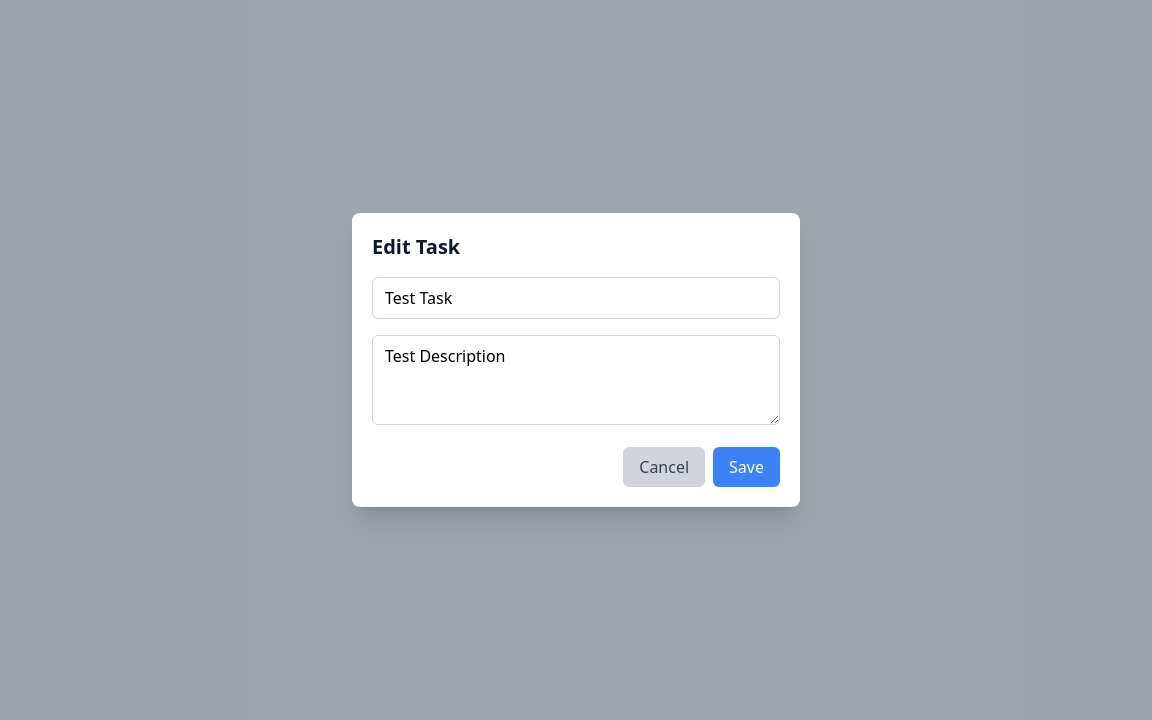
Test case: EditTaskPopup › clears error message when user starts typing after an error
Clear the field showing "Test Task": (576, 298) [372, 277, 780, 319]
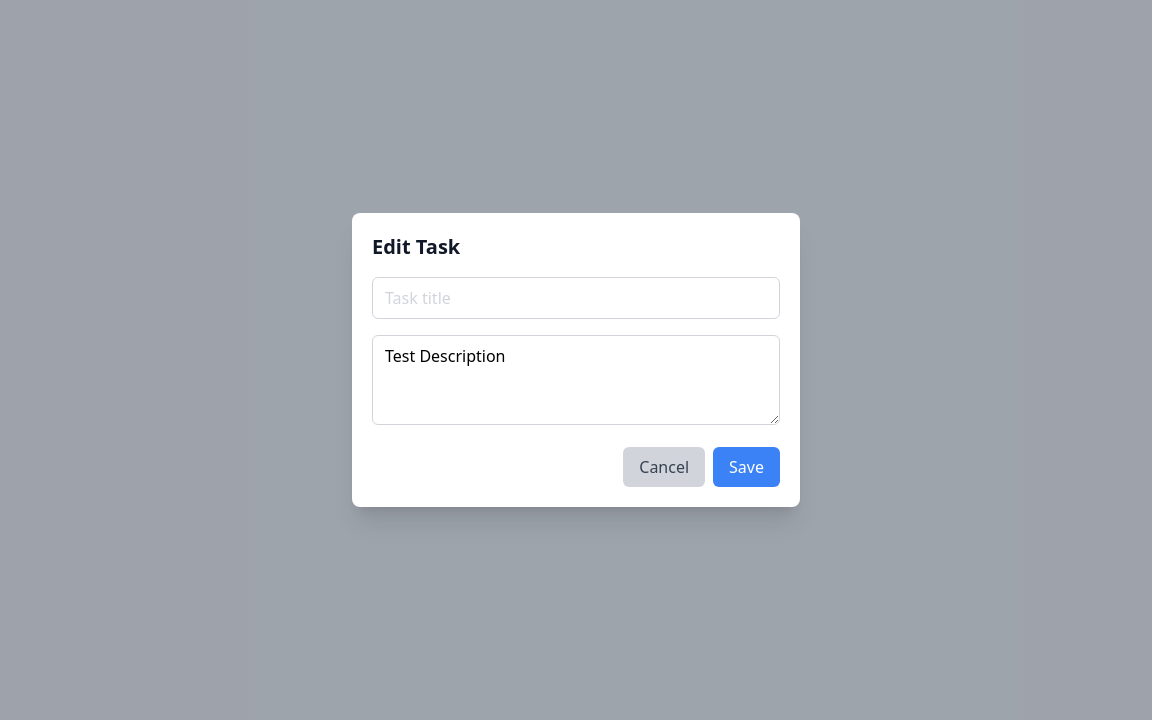
Click the button "Save": click(747, 467) [713, 447, 780, 487]
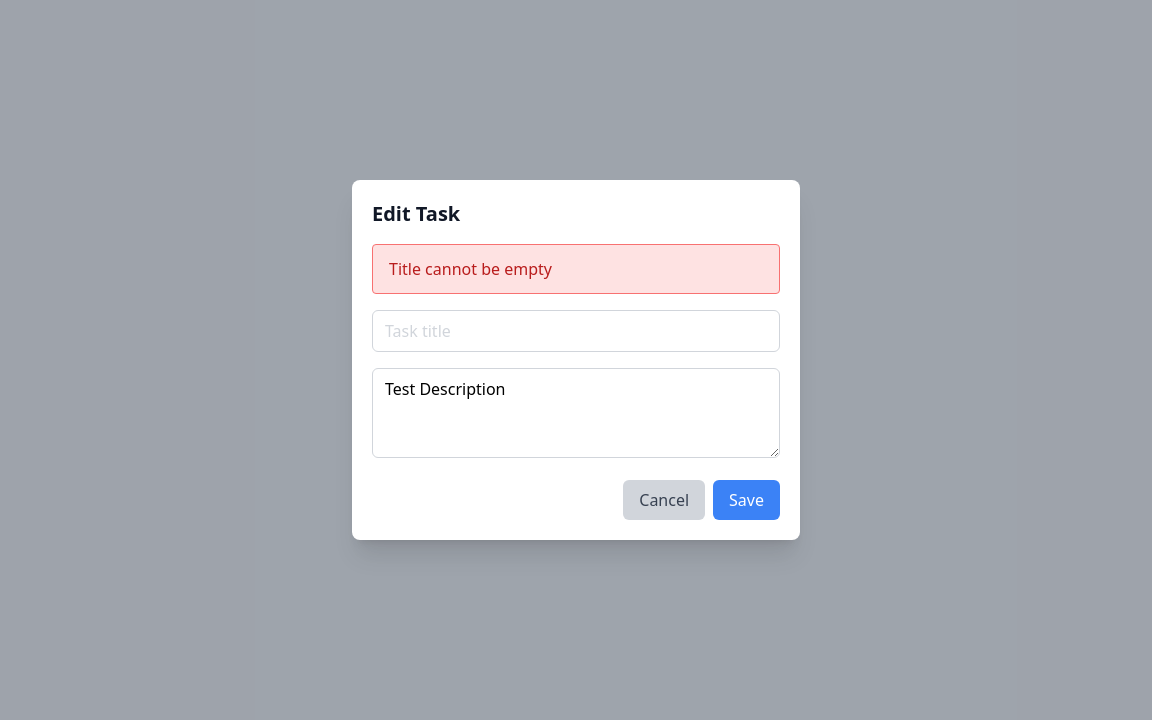
Check: the text "Title cannot be empty" is shown, box [389, 258, 552, 280]
In the field showing "Test Task": (576, 331) [372, 310, 780, 352], type "New Title"
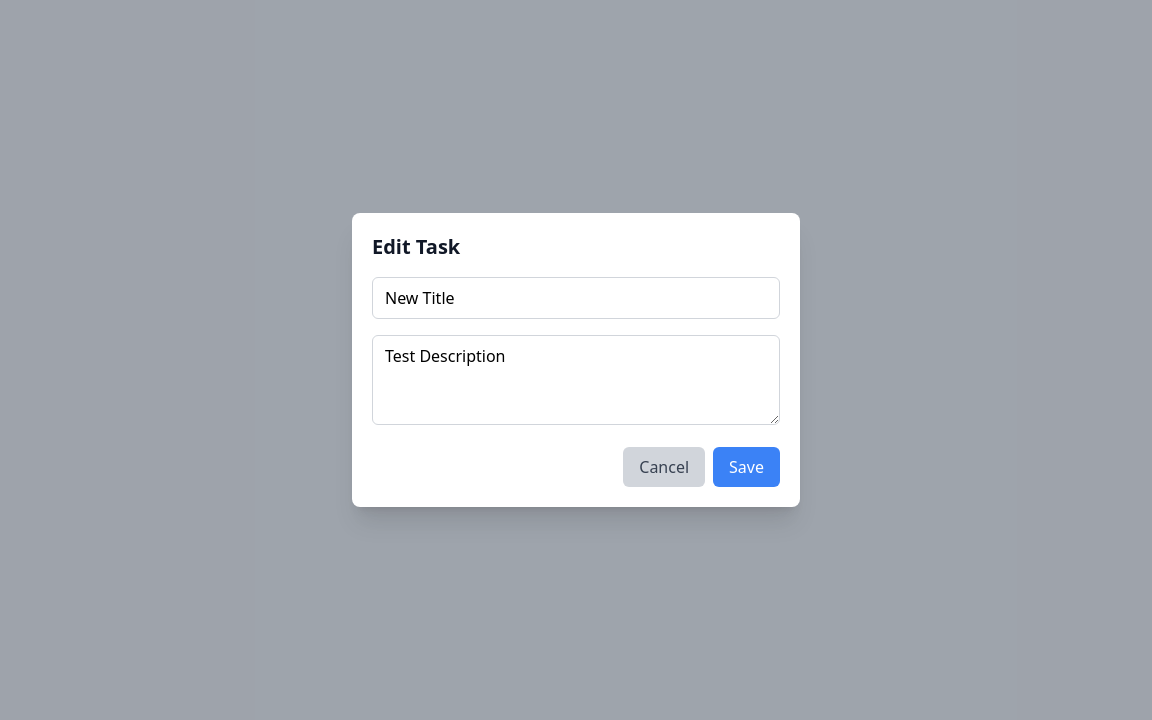
Check: the text "Title cannot be empty" is gone
